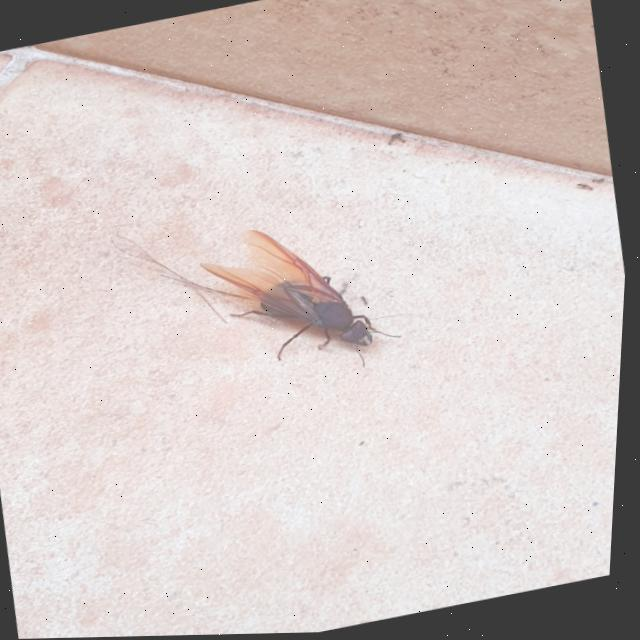Alive-Female-Alate: (193, 204, 414, 397)
